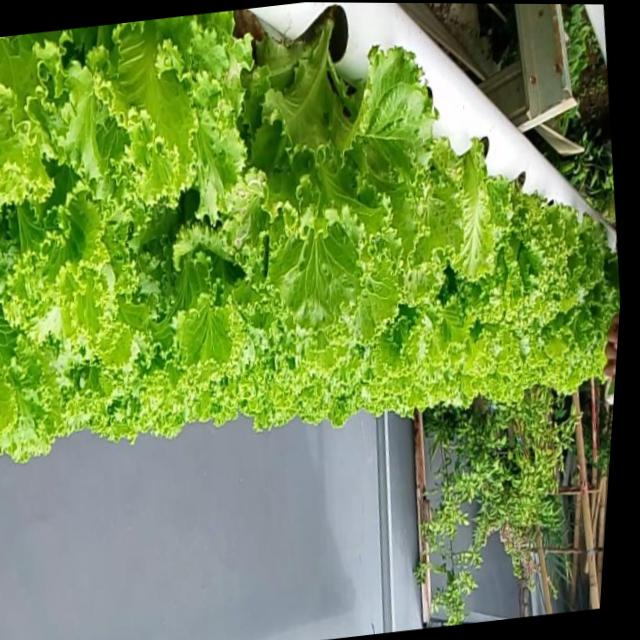Mature: (0, 5, 620, 458), (233, 5, 454, 334), (473, 171, 579, 331)
